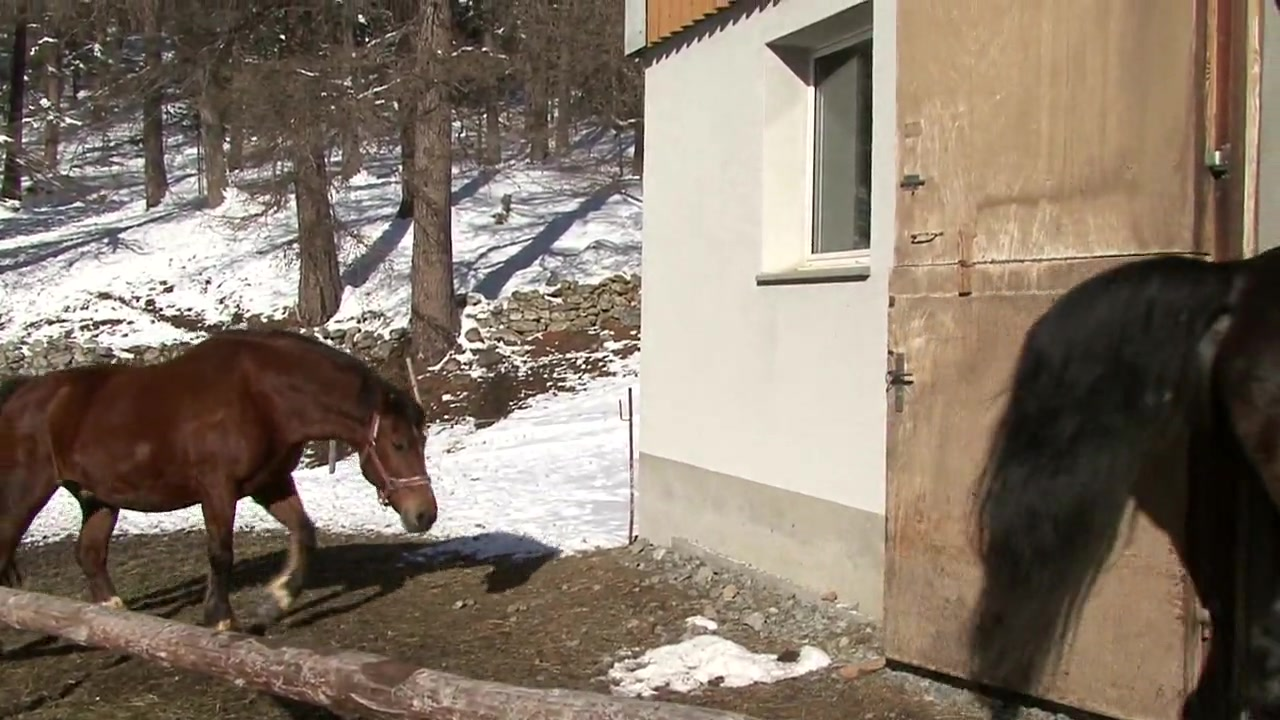horse: (1, 326, 441, 637)
